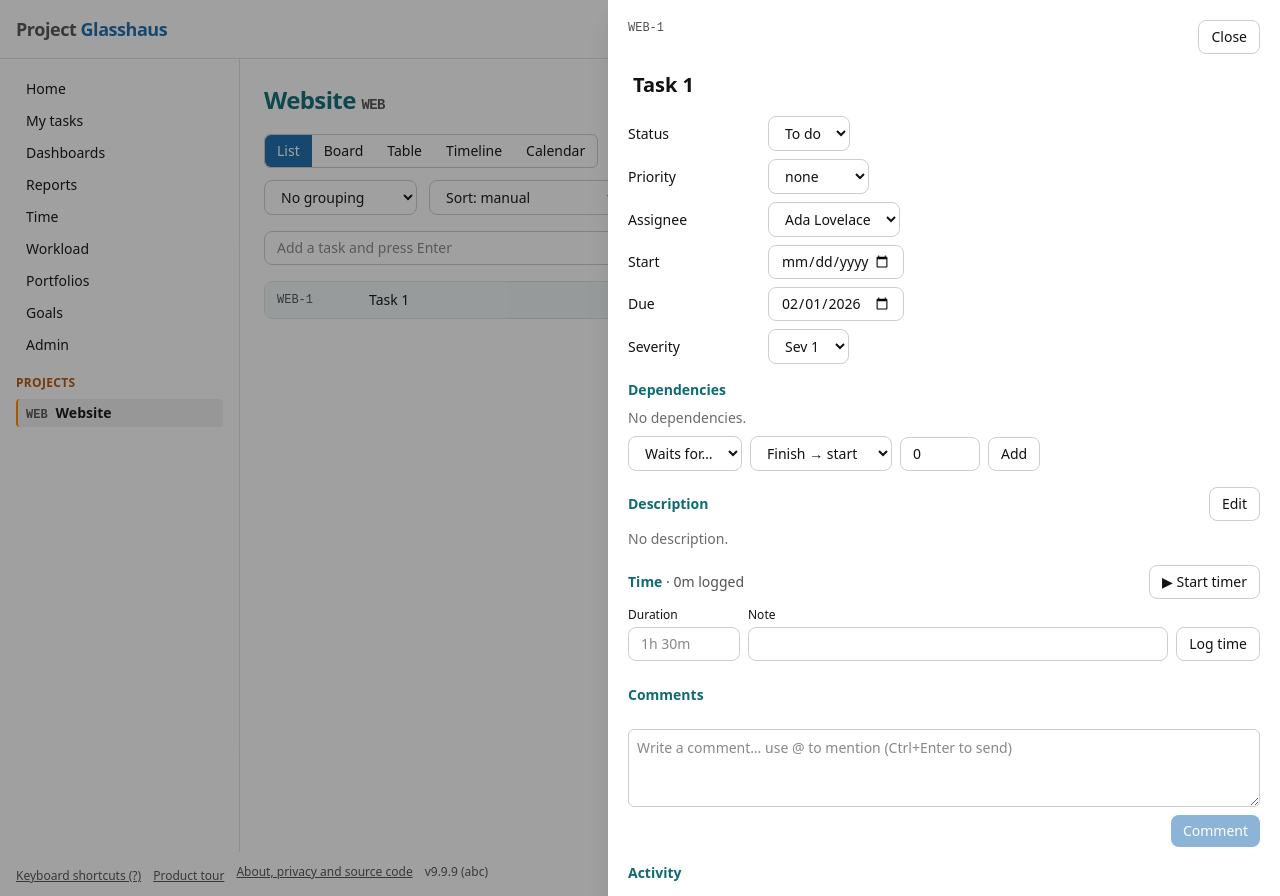
it: task drawer edits › keeps a comment that failed to send
The image size is (1280, 896).
Type "Important finding" into the dropdown named "Add a comment" at (944, 768), box [628,729,1260,807]
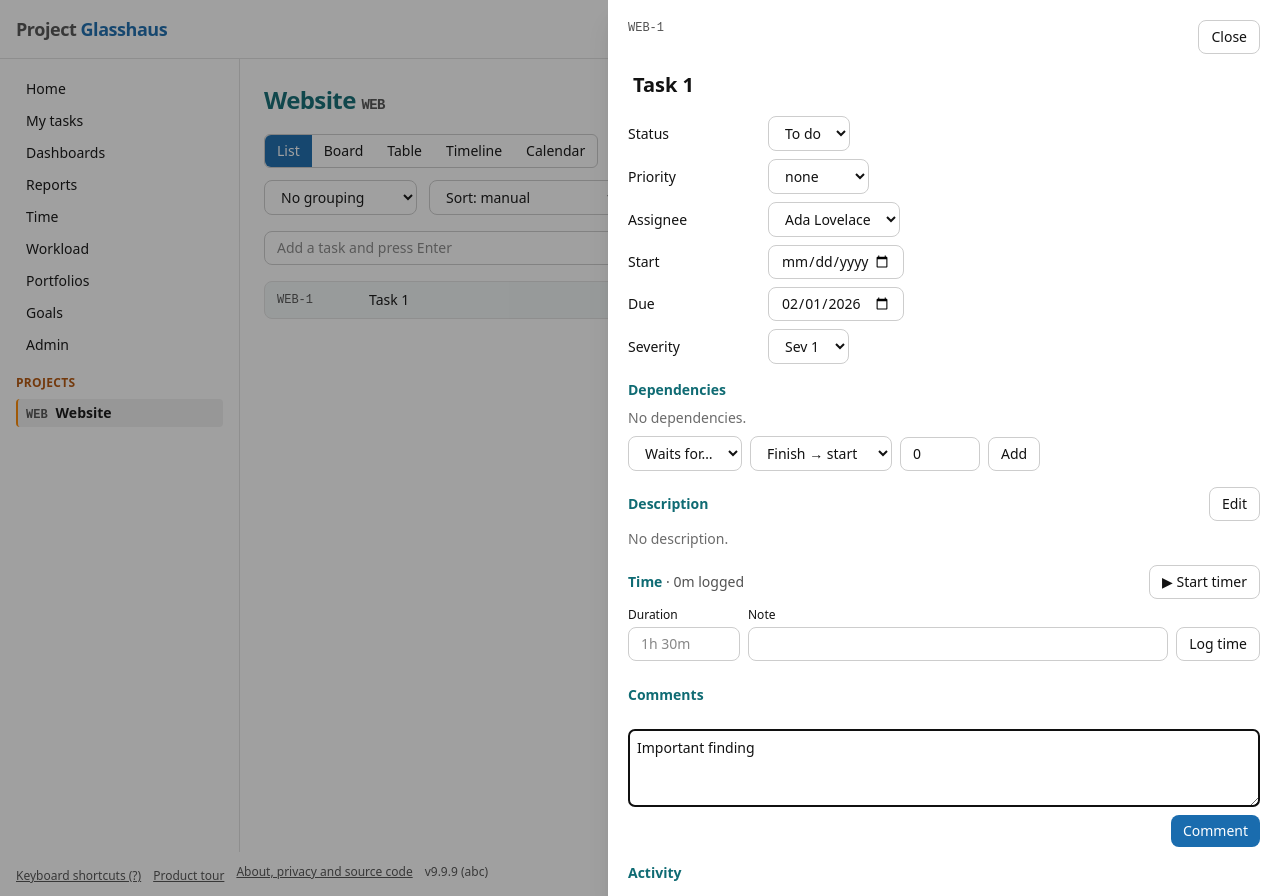
Click the button "Comment" at (1215, 831), box [1171,815,1260,847]
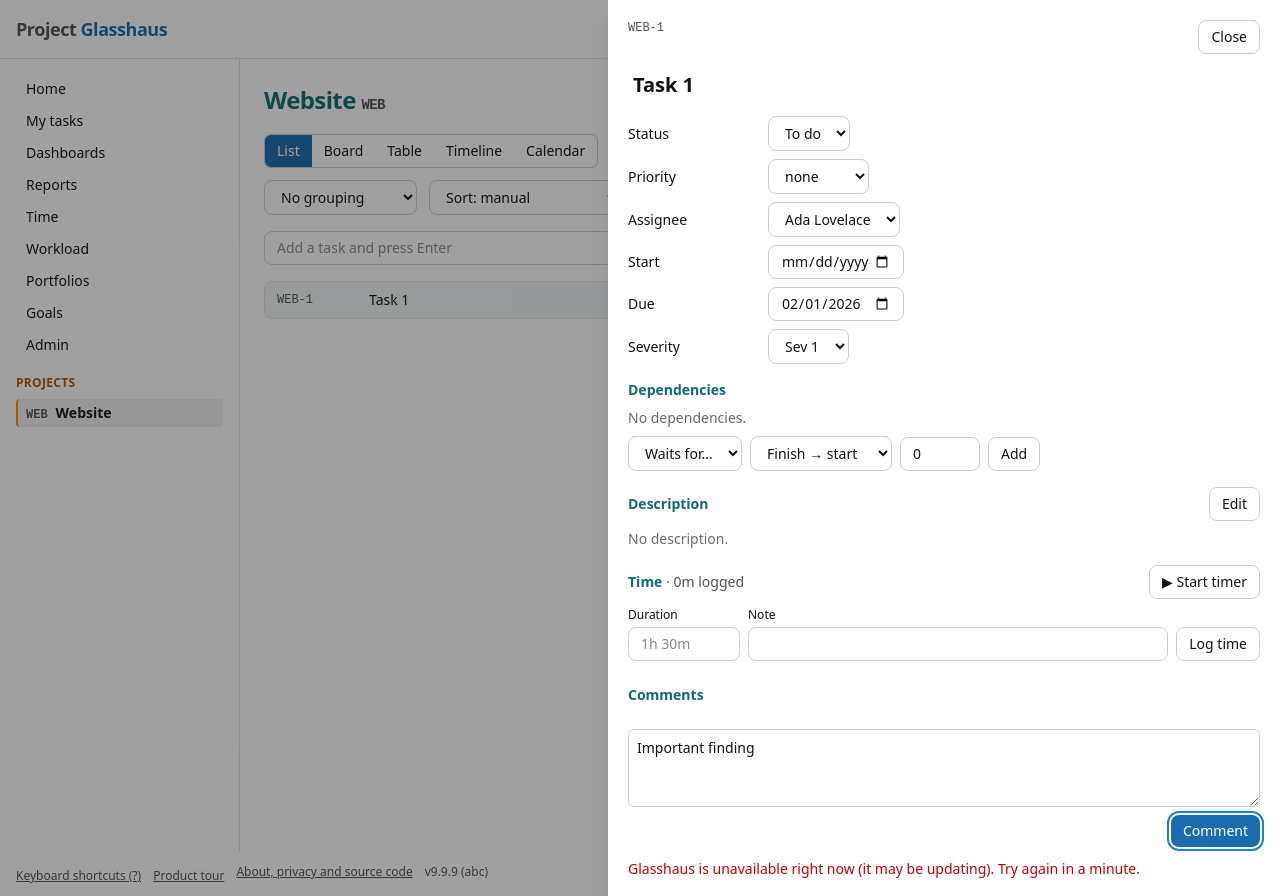
expect the text "unavailable right now" is shown: met, box [628,859,1140,878]
